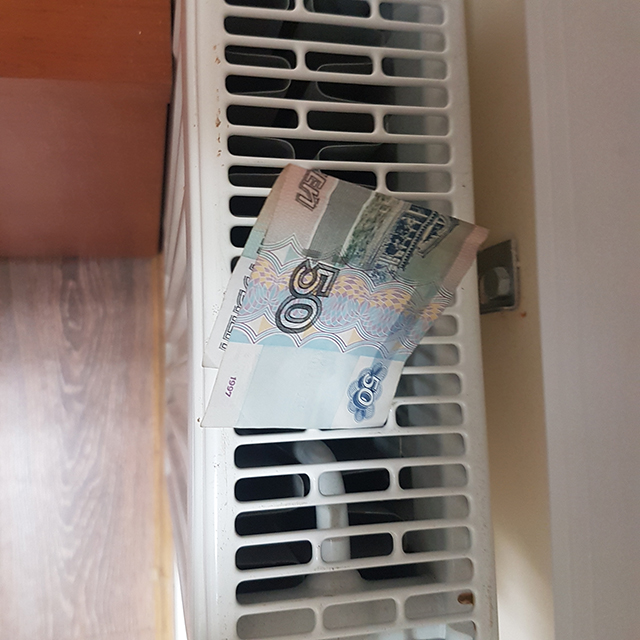banknotes: (195, 165, 487, 430)
